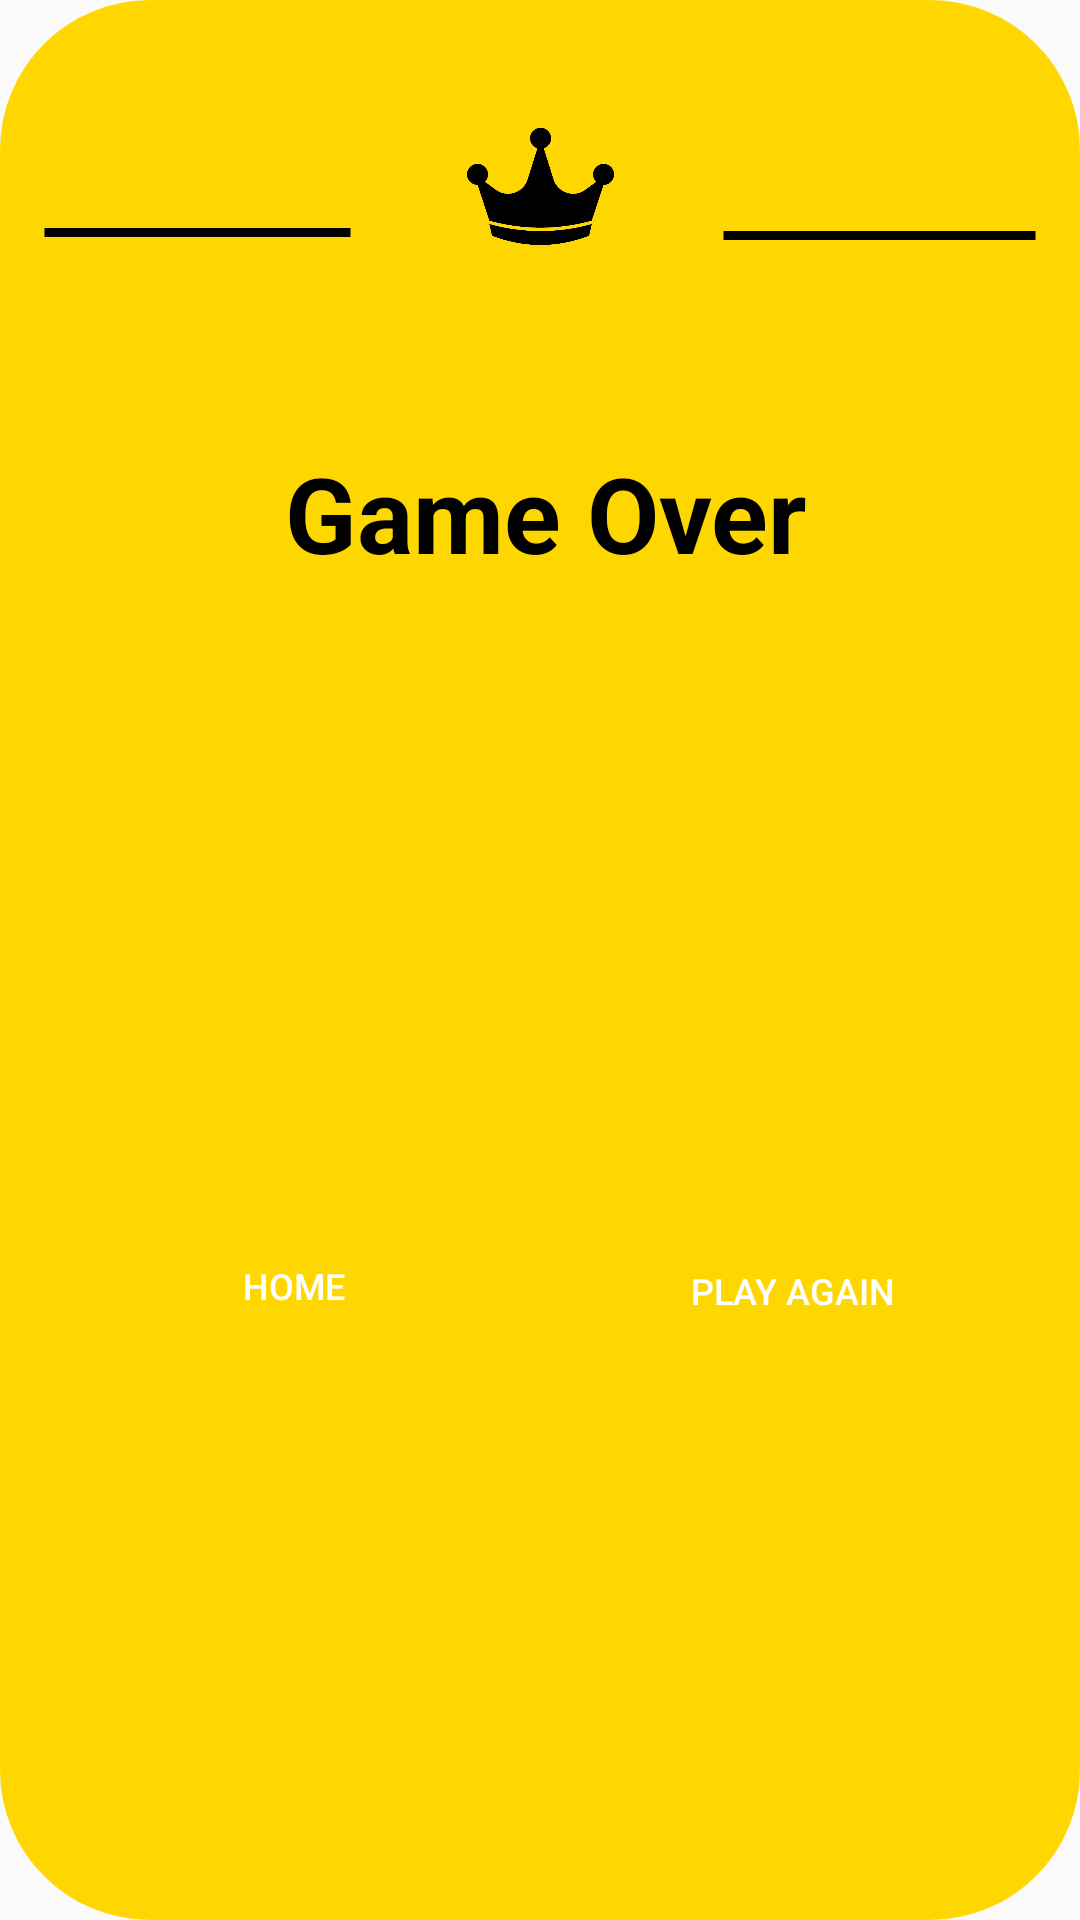

Icon bounding boxes for this 1080 × 1920 phone screenshot, format {"left": x1, "top": y1, "right": x2, "bottom": y2}:
crown: {"left": 467, "top": 128, "right": 614, "bottom": 245}
